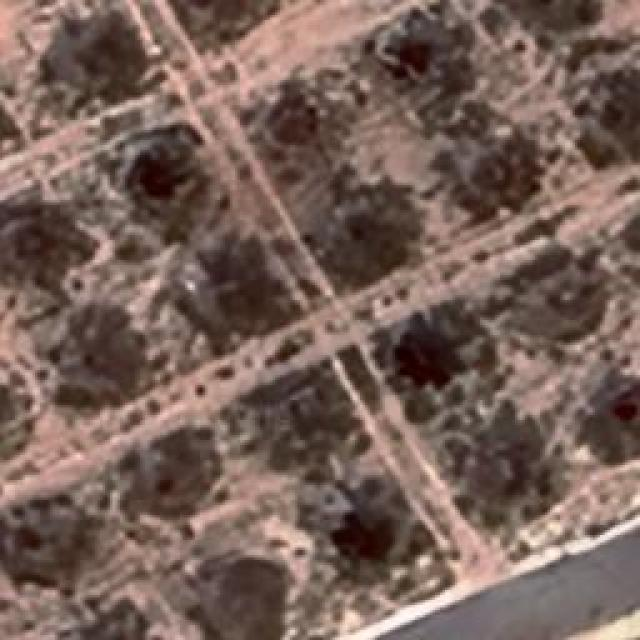PalmTree: (66, 65, 371, 532), (130, 128, 208, 208), (60, 48, 419, 65), (406, 319, 479, 389)
